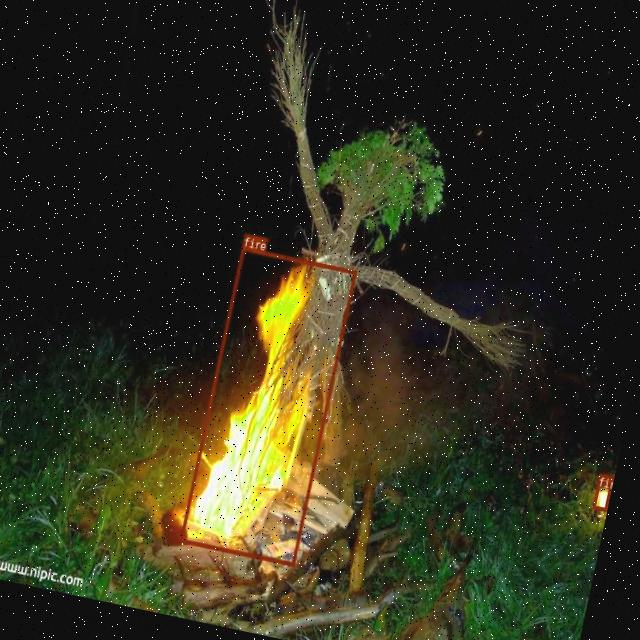fire: (179, 245, 356, 566), (591, 472, 613, 510)
